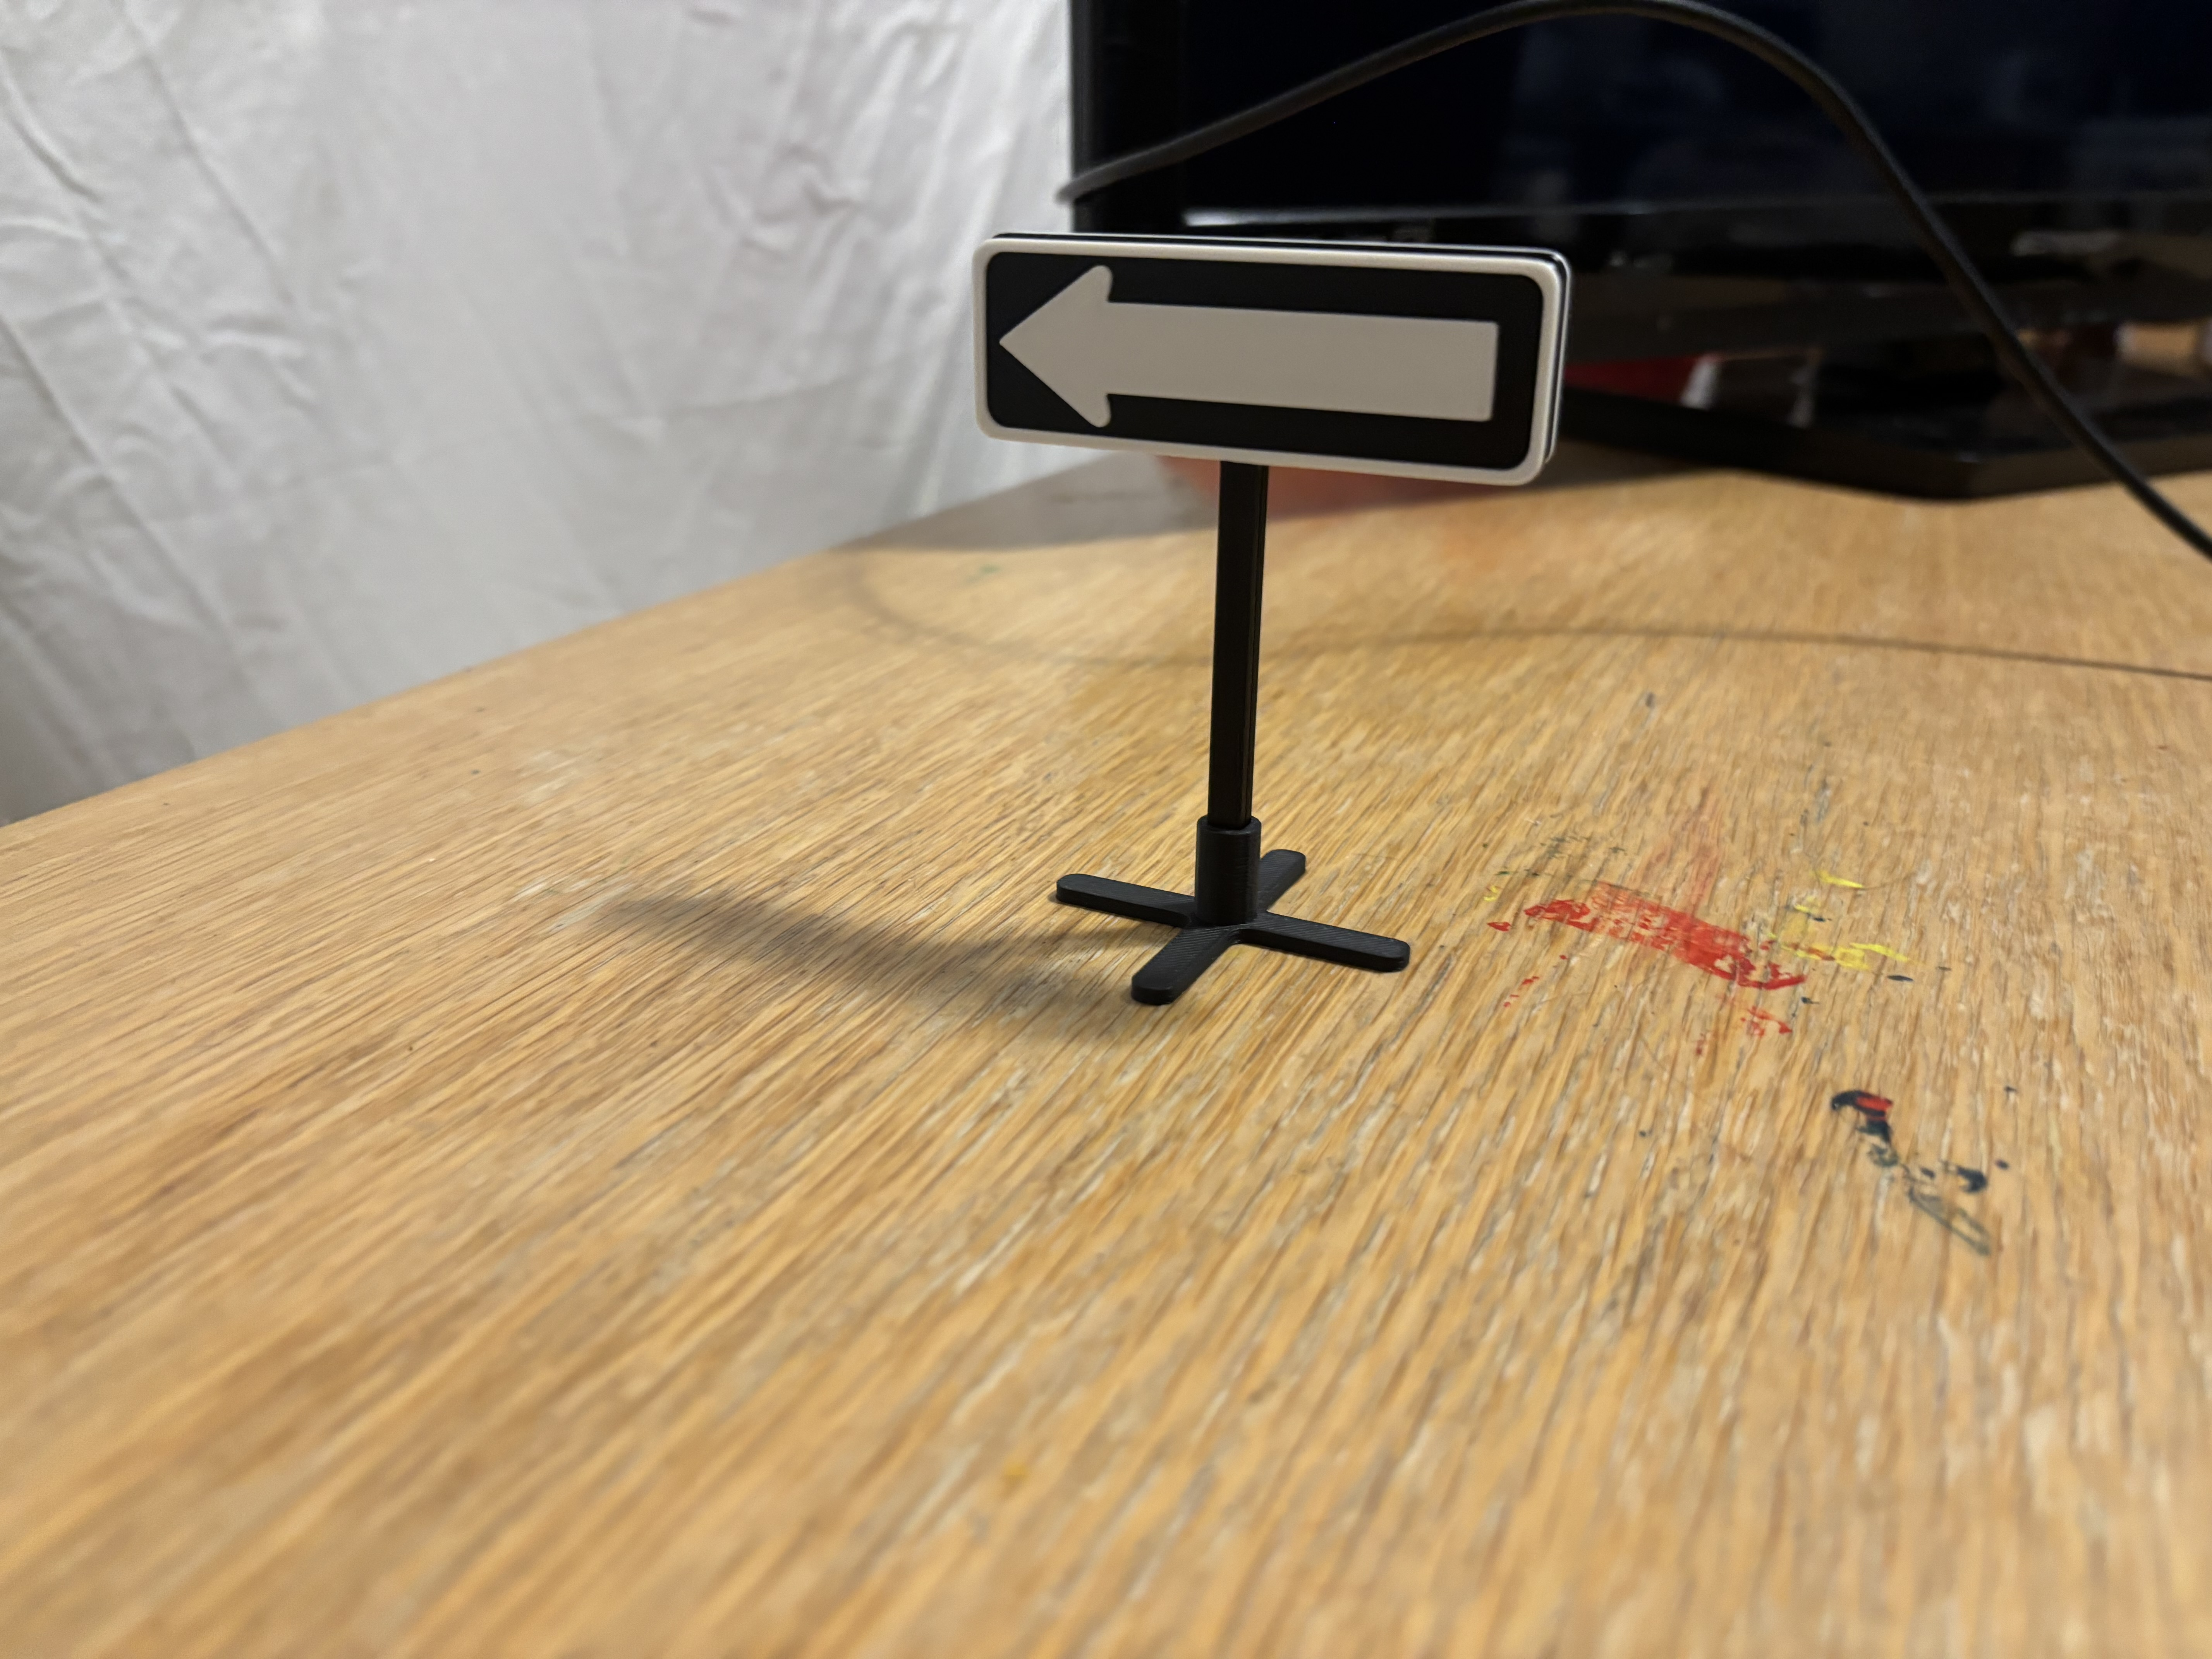sign_oneway_left: (954, 223, 1566, 504)
